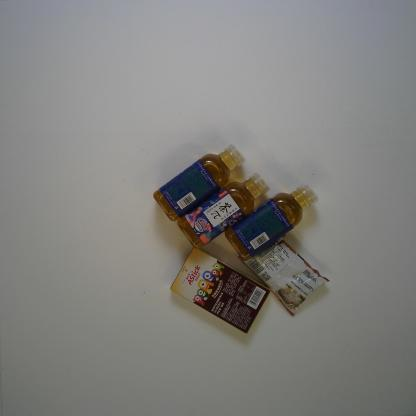Dessert: (170, 248, 272, 336)
Drink: (152, 142, 247, 222), (224, 182, 319, 262), (176, 172, 272, 250)
Seasoner: (238, 238, 330, 318)
